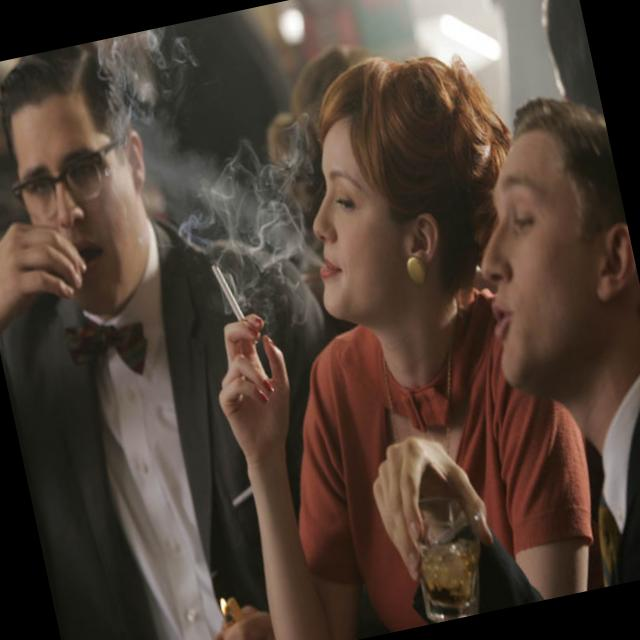smoke: (208, 254, 254, 338)
